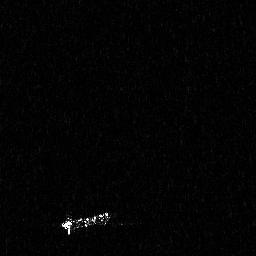ship: (59, 210, 112, 236)
